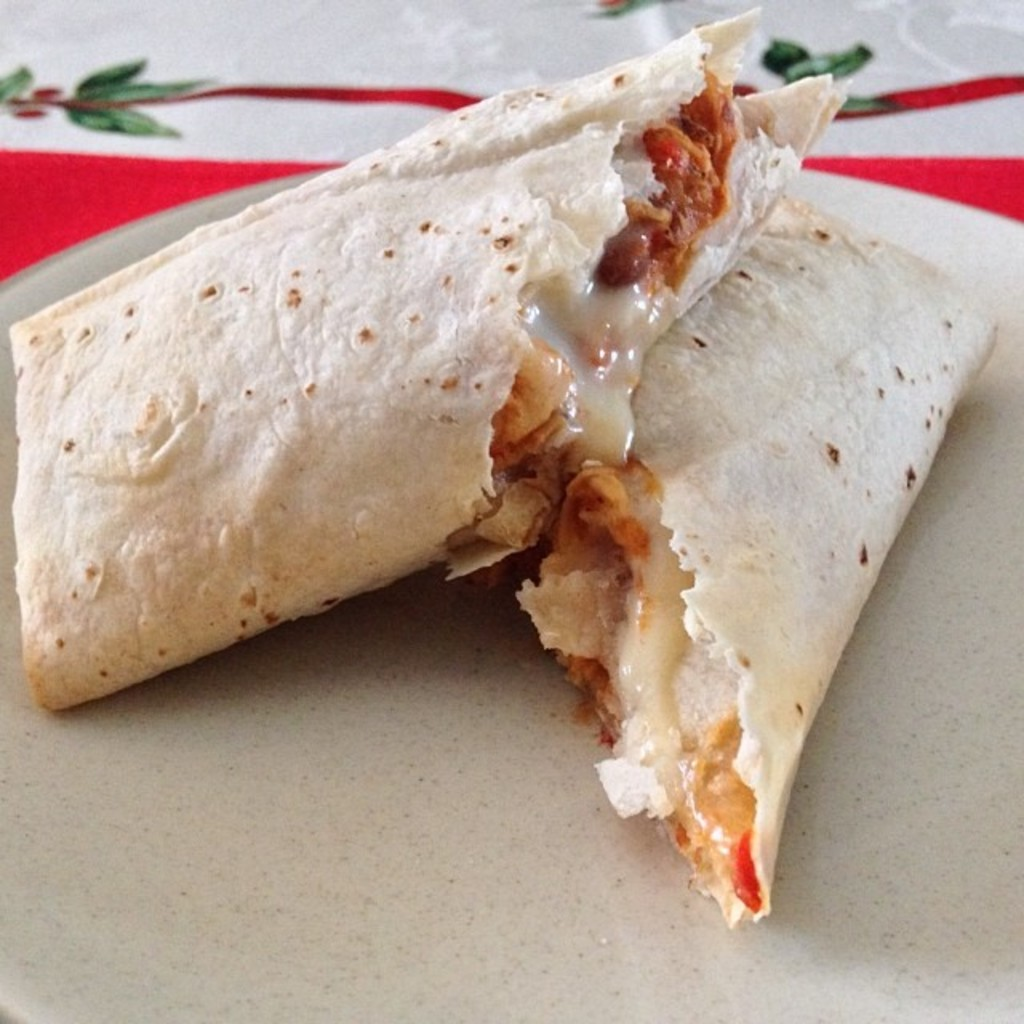person: (570, 0, 857, 303)
